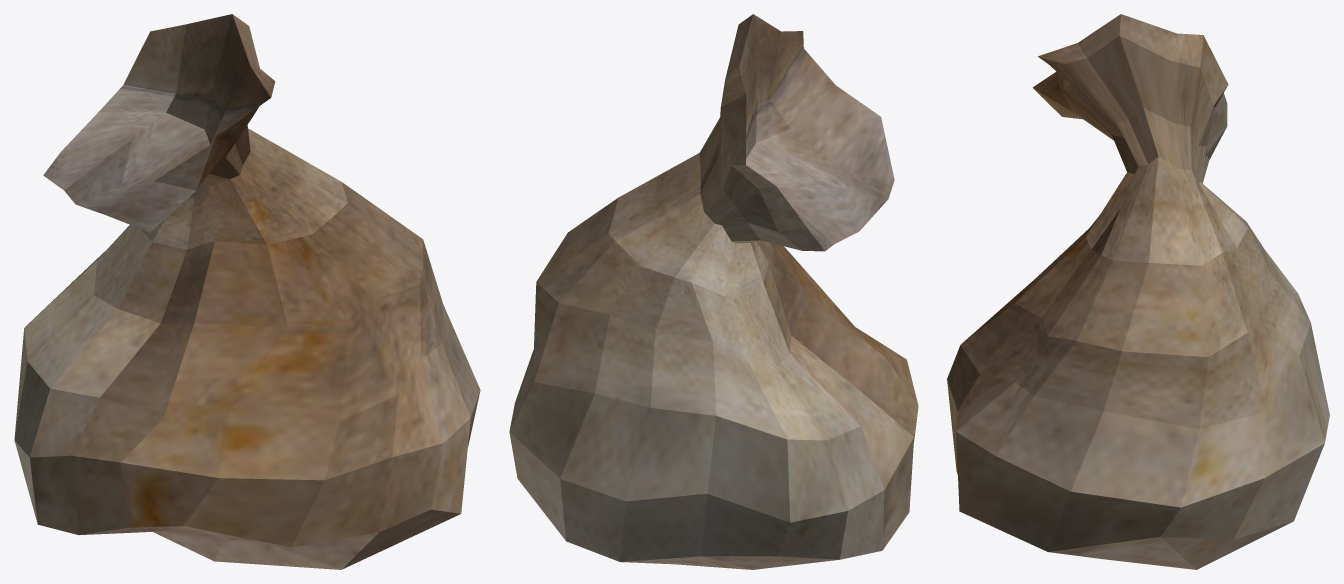
The model's file is coinbag2.glb.
3 views of the same model, side by side, from view 1: azimuth 30°, elevation 25°; view 2: azimuth 150°, elevation 25°; view 3: azimuth 270°, elevation 25° (orthographic). The views are drawn at different scales.
Parts seen in each view (by area): view 1: Cube; view 2: Cube; view 3: Cube.
Part boxes in pixels (x1,y1,x2,y2): Cube: (14, 14, 480, 569); Cube: (509, 14, 918, 569); Cube: (947, 14, 1329, 569).
Bounding box in the file's own units: 1.2 × 1.62 × 1.11.
1 material, 1 textured.
